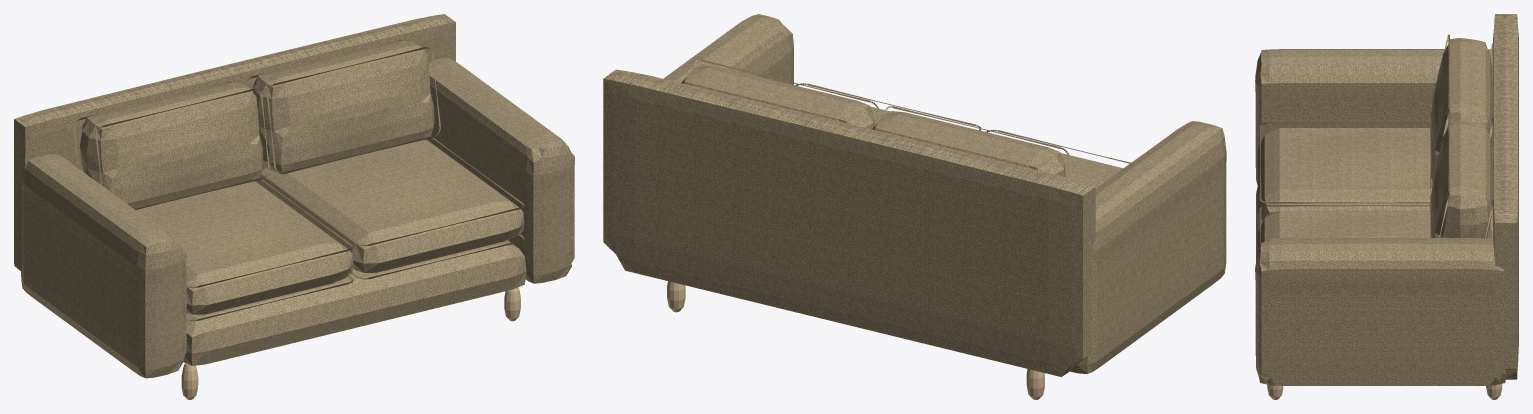
Rendered from SAB-SOF-2-seat.glb.
3 renders of one model, left to right at view 1: azimuth 30°, elevation 25°; view 2: azimuth 150°, elevation 25°; view 3: azimuth 270°, elevation 25°, orthographic. The views are drawn at different scales.
Visible parts, largest first — view 1: arm-pad-l:fabric:eyJwcmVzZXQiOiJib3VjbGUiLCJ3YXJwIjoic2FuZCI, seat-2:fabric:eyJwcmVzZXQiOiJib3VjbGUiLCJ3YXJwIjoic2FuZCIsIn, back-2:fabric:eyJwcmVzZXQiOiJib3VjbGUiLCJ3YXJwIjoic2FuZCIsIn, deck:fabric:eyJwcmVzZXQiOiJib3VjbGUiLCJ3YXJwIjoic2FuZCIsIndl, back-1:fabric:eyJwcmVzZXQiOiJib3VjbGUiLCJ3YXJwIjoic2FuZCIsIn, seat-1:fabric:eyJwcmVzZXQiOiJib3VjbGUiLCJ3YXJwIjoic2FuZCIsIn, arm-pad-r:fabric:eyJwcmVzZXQiOiJib3VjbGUiLCJ3YXJwIjoic2FuZCI, back-pad:fabric:eyJwcmVzZXQiOiJib3VjbGUiLCJ3YXJwIjoic2FuZCIs, seat-2:piping:pbr, back-2:piping:pbr, back-1:piping:pbr, seat-1:piping:pbr (+2 smaller); view 2: back-pad:fabric:eyJwcmVzZXQiOiJib3VjbGUiLCJ3YXJwIjoic2FuZCIs, arm-pad-l:fabric:eyJwcmVzZXQiOiJib3VjbGUiLCJ3YXJwIjoic2FuZCI, arm-pad-r:fabric:eyJwcmVzZXQiOiJib3VjbGUiLCJ3YXJwIjoic2FuZCI, back-1:fabric:eyJwcmVzZXQiOiJib3VjbGUiLCJ3YXJwIjoic2FuZCIsIn, back-2:fabric:eyJwcmVzZXQiOiJib3VjbGUiLCJ3YXJwIjoic2FuZCIsIn, seat-1:fabric:eyJwcmVzZXQiOiJib3VjbGUiLCJ3YXJwIjoic2FuZCIsIn; view 3: arm-pad-r:fabric:eyJwcmVzZXQiOiJib3VjbGUiLCJ3YXJwIjoic2FuZCI, arm-pad-l:fabric:eyJwcmVzZXQiOiJib3VjbGUiLCJ3YXJwIjoic2FuZCI, seat-1:fabric:eyJwcmVzZXQiOiJib3VjbGUiLCJ3YXJwIjoic2FuZCIsIn, back-pad:fabric:eyJwcmVzZXQiOiJib3VjbGUiLCJ3YXJwIjoic2FuZCIs, back-2:fabric:eyJwcmVzZXQiOiJib3VjbGUiLCJ3YXJwIjoic2FuZCIsIn, back-1:fabric:eyJwcmVzZXQiOiJib3VjbGUiLCJ3YXJwIjoic2FuZCIsIn, seat-2:fabric:eyJwcmVzZXQiOiJib3VjbGUiLCJ3YXJwIjoic2FuZCIsIn, seat-1:piping:pbr, back-2:piping:pbr, back-1:piping:pbr, seat-2:piping:pbr.
Boxes of the visible parts, left/top/right/bottom form: arm-pad-l:fabric:eyJwcmVzZXQiOiJib3VjbGUiLCJ3YXJwIjoic2FuZCI: left=21, top=154, right=186, bottom=378; seat-2:fabric:eyJwcmVzZXQiOiJib3VjbGUiLCJ3YXJwIjoic2FuZCIsIn: left=255, top=139, right=524, bottom=272; back-2:fabric:eyJwcmVzZXQiOiJib3VjbGUiLCJ3YXJwIjoic2FuZCIsIn: left=253, top=40, right=434, bottom=172; deck:fabric:eyJwcmVzZXQiOiJib3VjbGUiLCJ3YXJwIjoic2FuZCIsIndl: left=183, top=240, right=526, bottom=365; back-1:fabric:eyJwcmVzZXQiOiJib3VjbGUiLCJ3YXJwIjoic2FuZCIsIn: left=79, top=82, right=263, bottom=208; seat-1:fabric:eyJwcmVzZXQiOiJib3VjbGUiLCJ3YXJwIjoic2FuZCIsIn: left=136, top=181, right=353, bottom=314; arm-pad-r:fabric:eyJwcmVzZXQiOiJib3VjbGUiLCJ3YXJwIjoic2FuZCI: left=427, top=57, right=574, bottom=283; back-pad:fabric:eyJwcmVzZXQiOiJib3VjbGUiLCJ3YXJwIjoic2FuZCIs: left=14, top=14, right=455, bottom=271; seat-2:piping:pbr: left=261, top=136, right=524, bottom=279; back-2:piping:pbr: left=244, top=39, right=440, bottom=174; back-1:piping:pbr: left=73, top=81, right=269, bottom=209; seat-1:piping:pbr: left=186, top=179, right=353, bottom=321; back-pad:fabric:eyJwcmVzZXQiOiJib3VjbGUiLCJ3YXJwIjoic2FuZCIs: left=603, top=69, right=1095, bottom=376; arm-pad-l:fabric:eyJwcmVzZXQiOiJib3VjbGUiLCJ3YXJwIjoic2FuZCI: left=1070, top=121, right=1226, bottom=374; arm-pad-r:fabric:eyJwcmVzZXQiOiJib3VjbGUiLCJ3YXJwIjoic2FuZCI: left=618, top=14, right=793, bottom=259; back-1:fabric:eyJwcmVzZXQiOiJib3VjbGUiLCJ3YXJwIjoic2FuZCIsIn: left=872, top=111, right=1065, bottom=176; back-2:fabric:eyJwcmVzZXQiOiJib3VjbGUiLCJ3YXJwIjoic2FuZCIsIn: left=681, top=64, right=874, bottom=129; seat-1:fabric:eyJwcmVzZXQiOiJib3VjbGUiLCJ3YXJwIjoic2FuZCIsIn: left=1061, top=153, right=1122, bottom=188; arm-pad-r:fabric:eyJwcmVzZXQiOiJib3VjbGUiLCJ3YXJwIjoic2FuZCI: left=1255, top=238, right=1506, bottom=385; arm-pad-l:fabric:eyJwcmVzZXQiOiJib3VjbGUiLCJ3YXJwIjoic2FuZCI: left=1255, top=49, right=1492, bottom=184; seat-1:fabric:eyJwcmVzZXQiOiJib3VjbGUiLCJ3YXJwIjoic2FuZCIsIn: left=1257, top=128, right=1492, bottom=221; back-pad:fabric:eyJwcmVzZXQiOiJib3VjbGUiLCJ3YXJwIjoic2FuZCIs: left=1493, top=14, right=1518, bottom=379; back-2:fabric:eyJwcmVzZXQiOiJib3VjbGUiLCJ3YXJwIjoic2FuZCIsIn: left=1430, top=120, right=1492, bottom=238; back-1:fabric:eyJwcmVzZXQiOiJib3VjbGUiLCJ3YXJwIjoic2FuZCIsIn: left=1430, top=38, right=1492, bottom=181; seat-2:fabric:eyJwcmVzZXQiOiJib3VjbGUiLCJ3YXJwIjoic2FuZCIsIn: left=1257, top=210, right=1492, bottom=251; seat-1:piping:pbr: left=1259, top=122, right=1490, bottom=227; back-2:piping:pbr: left=1430, top=117, right=1493, bottom=238; back-1:piping:pbr: left=1430, top=34, right=1493, bottom=191; seat-2:piping:pbr: left=1259, top=205, right=1490, bottom=243.
Size of the model in its own units: 1.7 by 0.78 by 0.9.
Materials: 16 (8 with a texture image).
